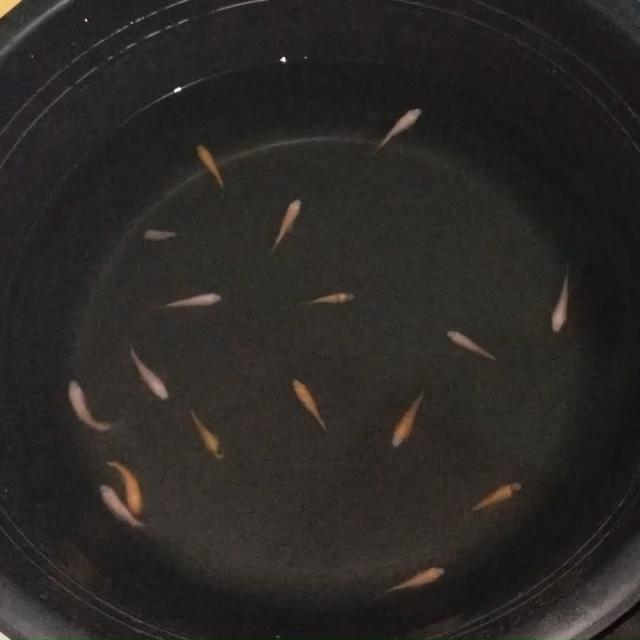nila: (97, 480, 153, 541), (385, 381, 432, 452), (68, 377, 126, 434), (366, 104, 424, 153), (462, 476, 528, 518), (126, 343, 171, 402), (376, 560, 449, 596), (264, 194, 304, 256), (106, 454, 144, 518), (289, 373, 328, 435), (188, 405, 228, 464), (444, 326, 502, 364), (195, 142, 228, 196), (550, 263, 573, 335), (152, 288, 225, 310), (298, 288, 361, 310), (140, 222, 188, 244)
